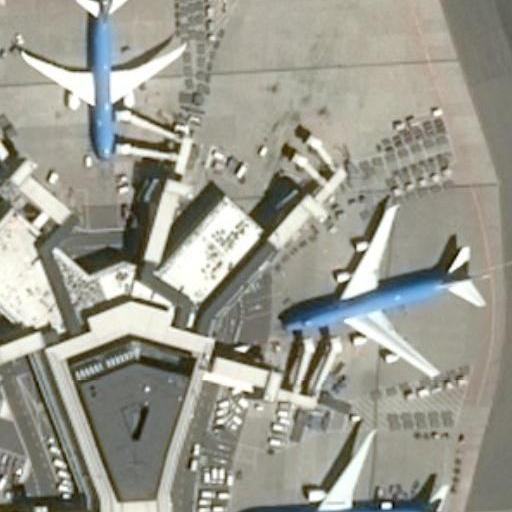Aircraft: (275, 198, 484, 377), (12, 0, 184, 162), (234, 432, 461, 512)
